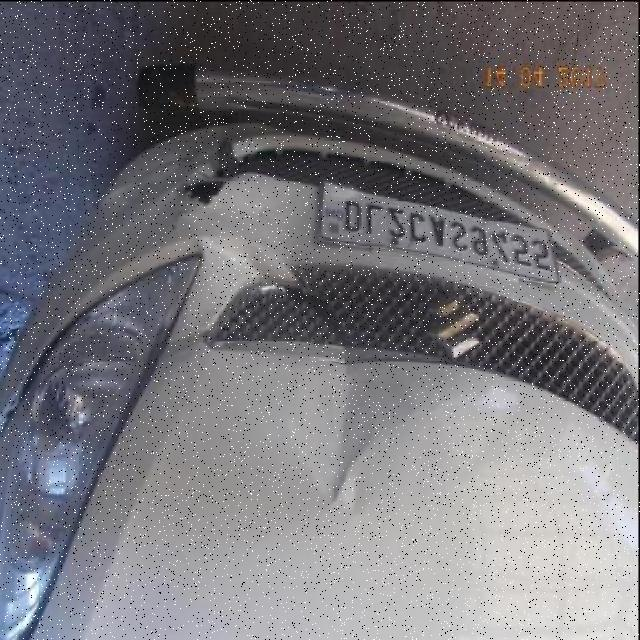damage: (279, 270, 433, 514), (224, 168, 324, 252), (192, 216, 302, 283), (186, 126, 253, 209)
